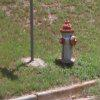Hydrant: (51, 13, 82, 77)
